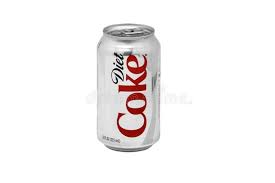can: (94, 22, 162, 152)
